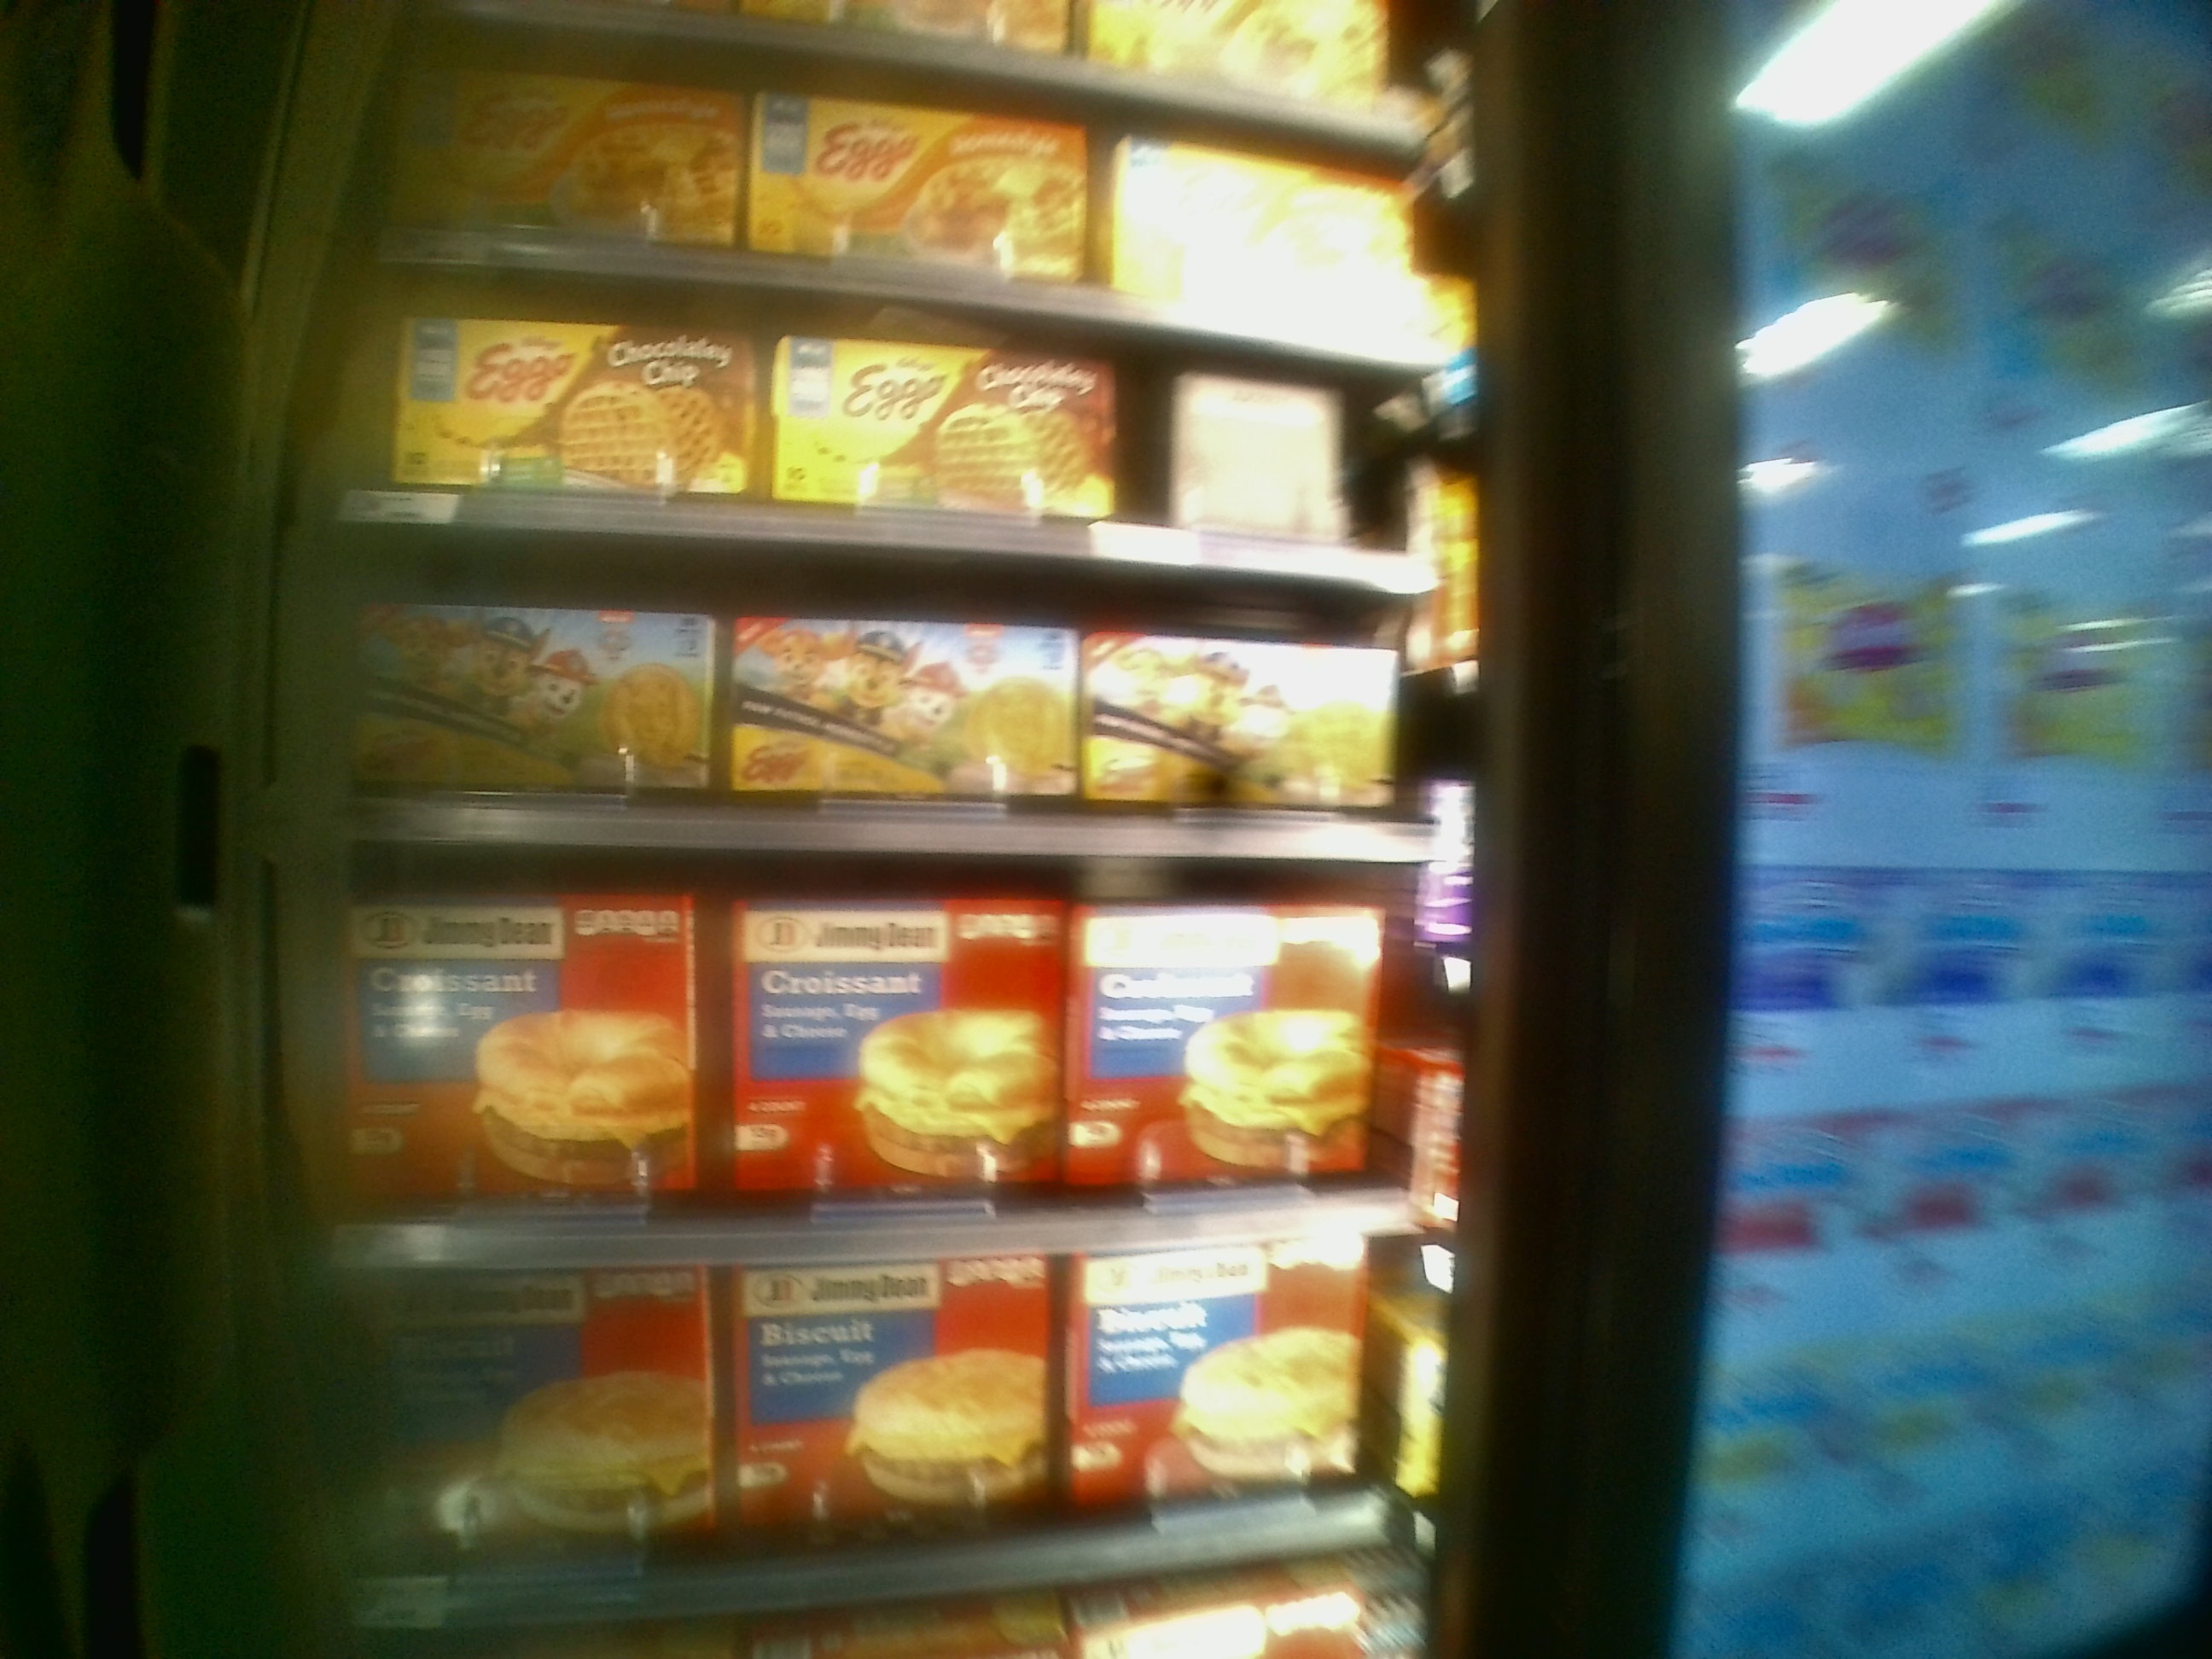shelf: (315, 850, 1456, 1251), (319, 542, 1465, 864), (315, 251, 1440, 572)
